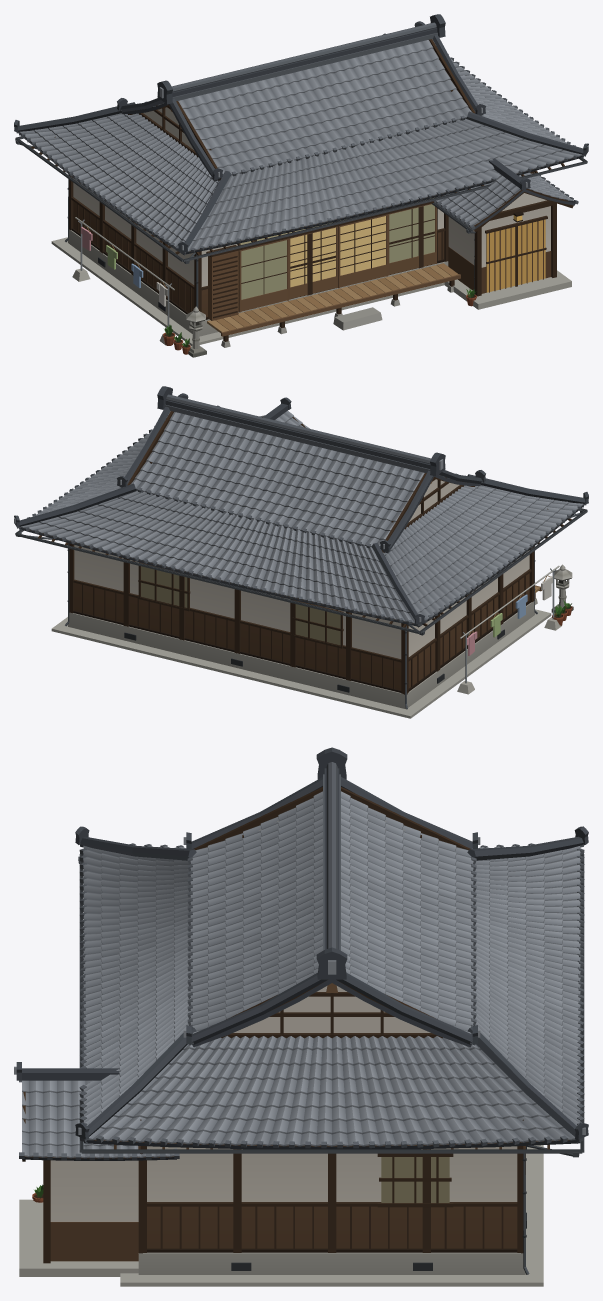
Rendered from minka_gray.glb.
3 views of the same model, one above another, from view 1: azimuth 30°, elevation 25°; view 2: azimuth 150°, elevation 25°; view 3: azimuth 270°, elevation 25° (orthographic). The views are drawn at different scales.
Parts seen in each view (by area): view 1: minka_gray; view 2: minka_gray; view 3: minka_gray.
Boxes of the visible parts, box(x1,y1,x2,y2) form: minka_gray: box(14, 14, 588, 357); minka_gray: box(14, 386, 588, 718); minka_gray: box(14, 747, 588, 1286).
Bounding box in the file's own units: 13.57 × 6.41 × 10.94.
